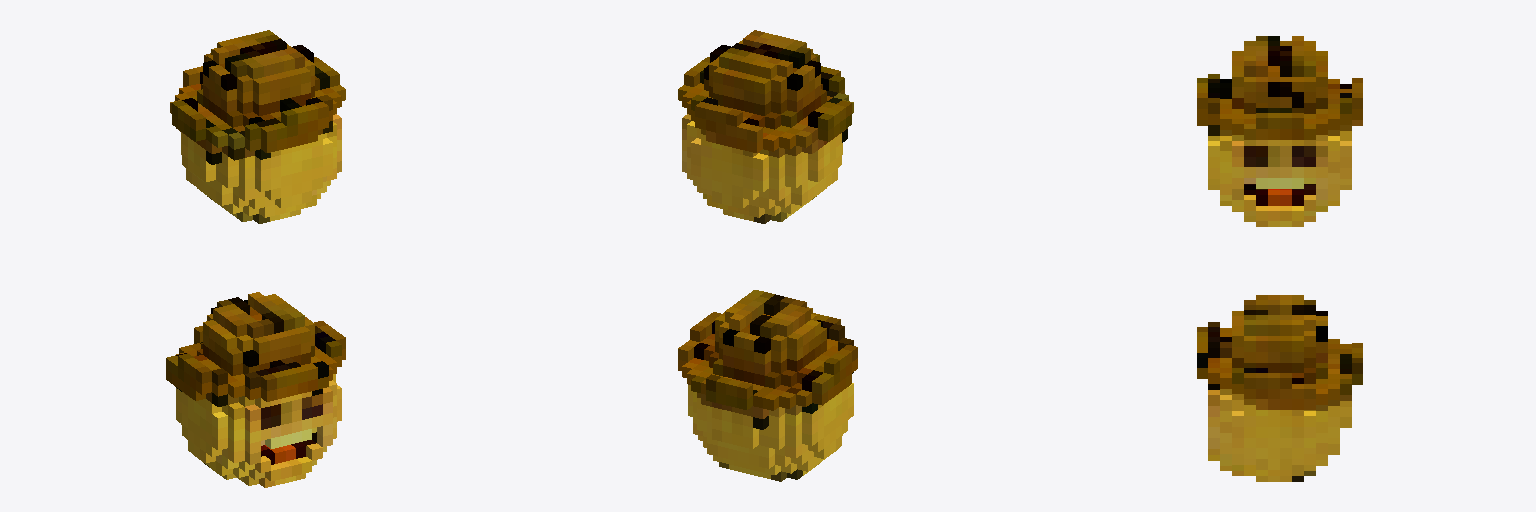
The model's file is iter_500.obj.
3 renders of one model, left to right at view 1: azimuth 30°, elevation 25°; view 2: azimuth 150°, elevation 25°; view 3: azimuth 270°, elevation 25°, orthographic.
Parts seen in each view (by area): view 1: iter_500; view 2: iter_500; view 3: iter_500.
Part boxes in pixels (x1,y1,x2,y2): iter_500: (166,30,345,487); iter_500: (678,30,857,481); iter_500: (1197,36,1362,481).
Size of the model in its own units: 1.4 by 3.8 by 1.4.